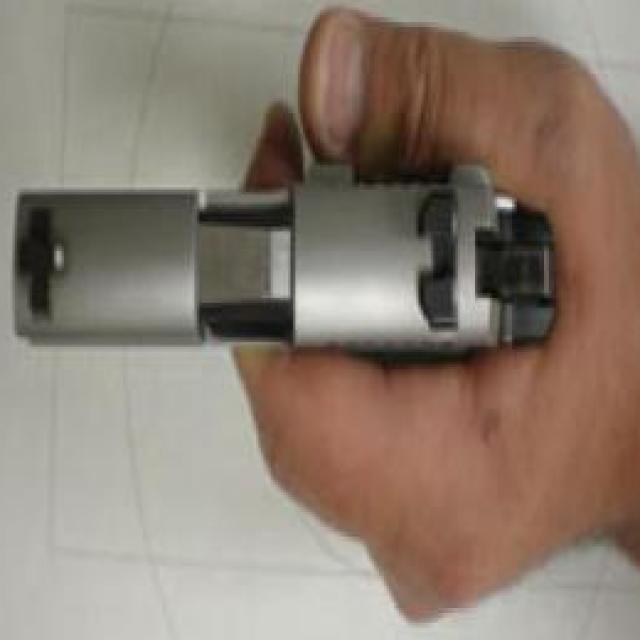pistol: (12, 155, 559, 364)
